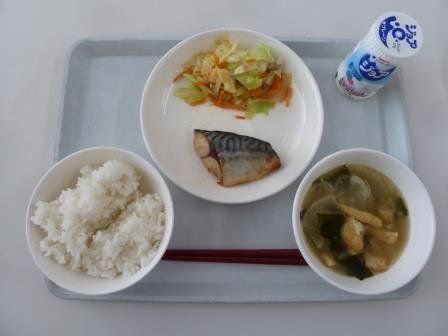Drinkable yogurt: (331, 4, 426, 107)
Fish: (181, 118, 290, 197)
Rice: (28, 146, 165, 301)
Soups: (302, 154, 431, 286)
salad with sauce: (177, 31, 297, 119)
